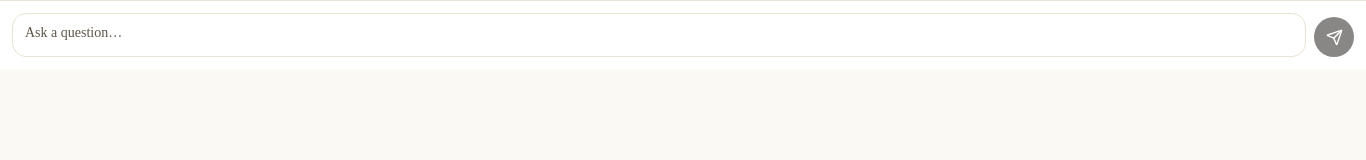
Test: Composer › blocks over-limit text with an explicit error
Later steps or results of the test are not shown.
Type "123456" into the text box with test id "ai-agent-input".
click(659, 35); type("123456")  # box [12, 13, 1306, 57]
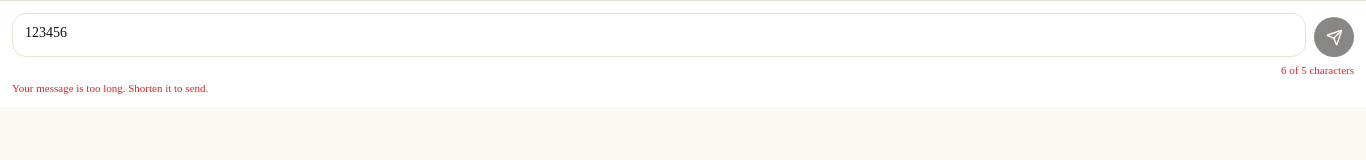
Expected: the button named "Send message" is disabled, [1314, 17, 1354, 57]
Now the text "Your message is too long. Shorten it to send." is shown, box [12, 82, 208, 94]
Now the text "6 of 5 characters" is shown, box [1281, 63, 1354, 77]
